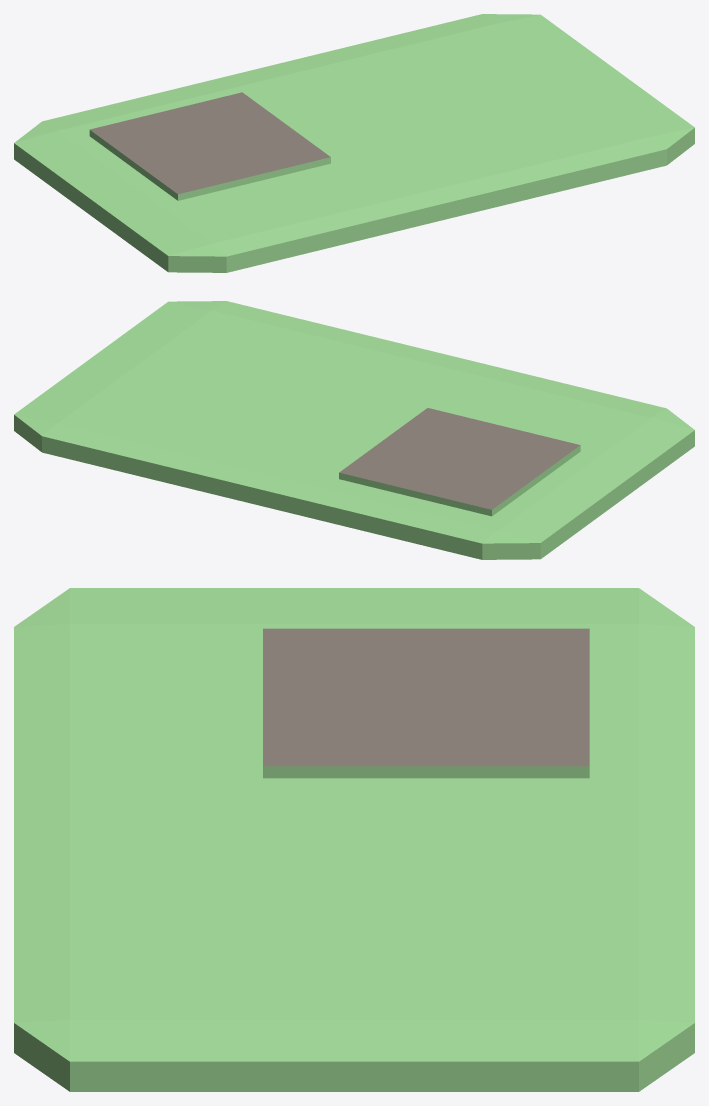
The model's file is IDcard.fbx.
3 views of the same model, one above another, from view 1: azimuth 30°, elevation 25°; view 2: azimuth 150°, elevation 25°; view 3: azimuth 270°, elevation 25° (orthographic). The views are drawn at different scales.
Visible parts, largest first — view 1: Cube; view 2: Cube; view 3: Cube.
Part boxes in pixels (x1,y1,x2,y2): Cube: (14,14,694,272); Cube: (14,301,694,559); Cube: (14,588,694,1091).
Size of the model in its own units: 200 by 9.49 by 121.
